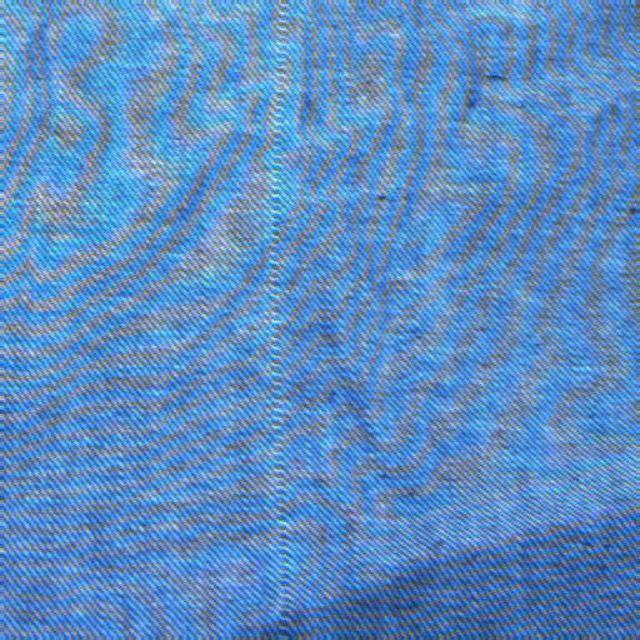defect: (271, 0, 294, 633)
